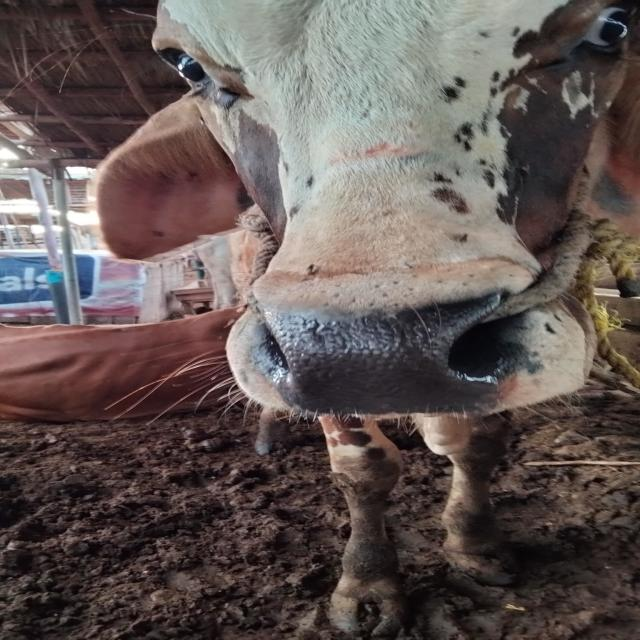muzzles: (237, 288, 548, 417)
